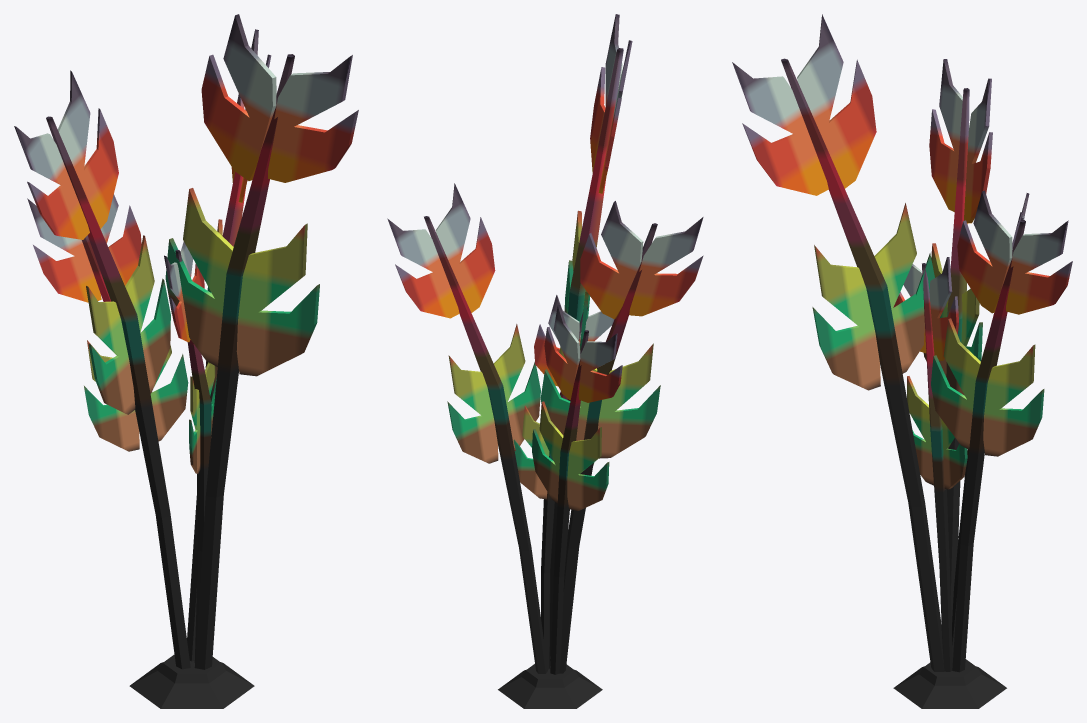
File: Planted carrot.fbx
The picture shows the model from 3 angles, left to right: view 1: azimuth 30°, elevation 25°; view 2: azimuth 150°, elevation 25°; view 3: azimuth 270°, elevation 25°; orthographic projection. The views are drawn at different scales.
Parts seen in each view (by area): view 1: Carrot.001; view 2: Carrot.001; view 3: Carrot.001.
Part boxes in pixels (x1,y1,x2,y2): Carrot.001: (14, 14, 358, 708); Carrot.001: (387, 14, 703, 708); Carrot.001: (732, 14, 1072, 708).
Size of the model in its own units: 10.89 by 24.45 by 11.41.
